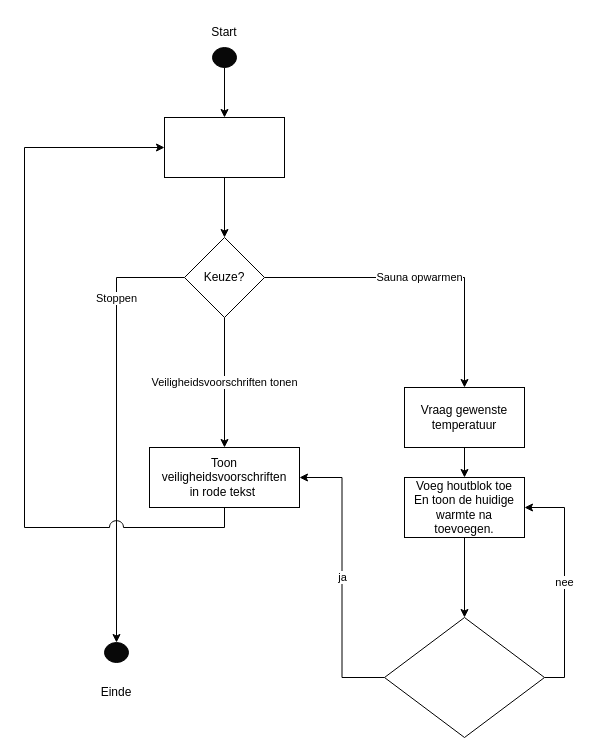
Some shapes in this 591 by 755 pixel diagram are drawn without their labels. Here are the shapes that lost their labels. From the top down, the centre of each, then its label:
At point 224,147: "Toon Menu en huidige warmte".
At point 464,677: "Is de gewenste temperatuur bereikt?".
